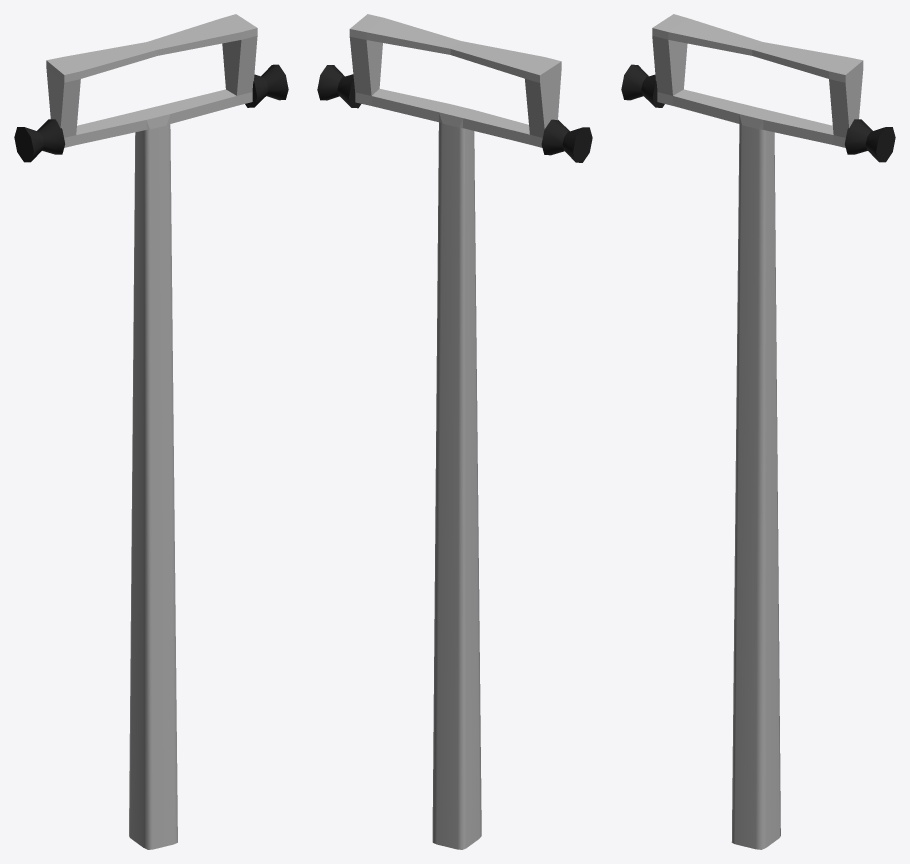
File: ski_lift_pole.glb
3 renders of one model, left to right at view 1: azimuth 30°, elevation 25°; view 2: azimuth 150°, elevation 25°; view 3: azimuth 330°, elevation 25°, orthographic.
Visible parts, largest first — view 1: ski_lift_pole; view 2: ski_lift_pole; view 3: ski_lift_pole.
Part boxes in pixels (x1,y1,x2,y2): ski_lift_pole: (14,14,288,849); ski_lift_pole: (317,14,592,849); ski_lift_pole: (621,14,895,849).
Size of the model in its own units: 859 by 2555 by 132.
1 material, 1 textured.
